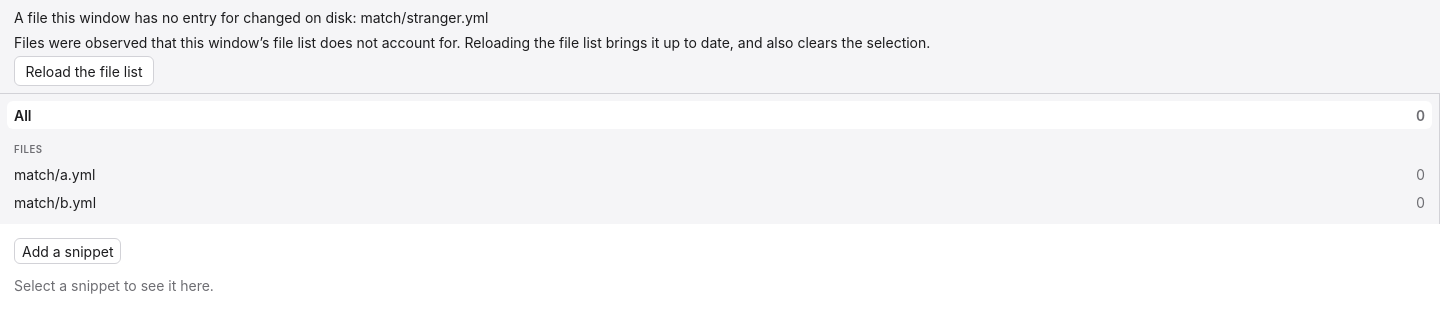
it: the workspace banners and their two controls, in en › draws a path drift and a wanted membership reload, and reloads on the press
Click the button "Reload the file list". click: [84, 71]
box: top-left (14, 56), bottom-right (154, 86)
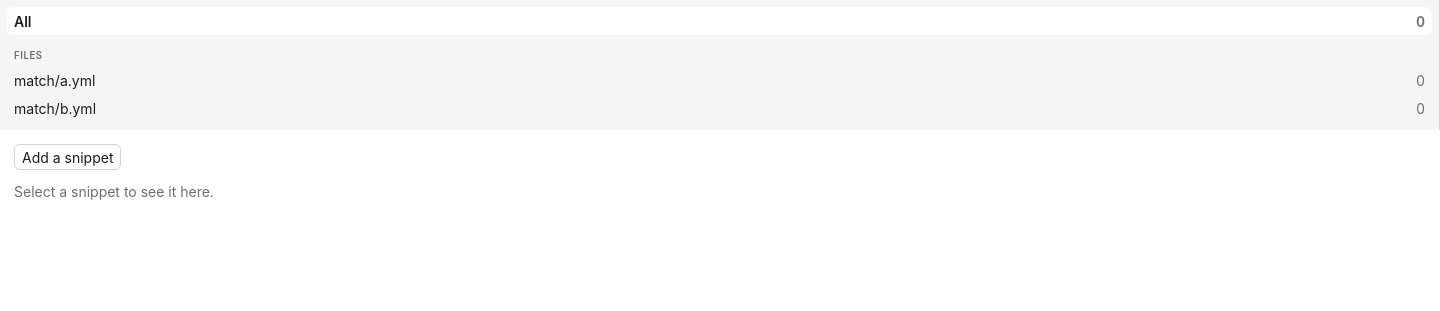
Result: the text "Files were observed that this window’s file list does not account for. Reloading the file list brings it up to date, and also clears the selection." is gone
